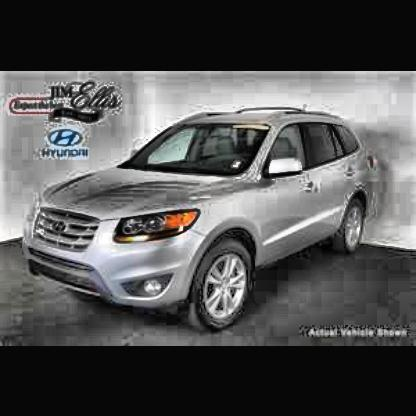Hyundai Santa Fe SUV 2012: (23, 105, 376, 329)
